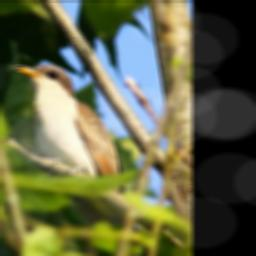Cuckoo: (7, 58, 172, 256)
